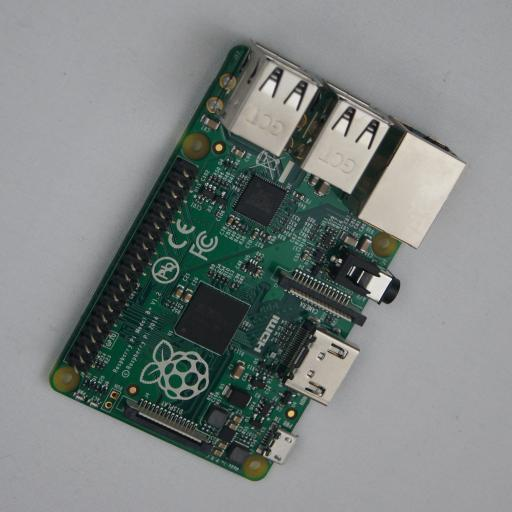Raspberry Pi 1 B-: (49, 39, 466, 481)
